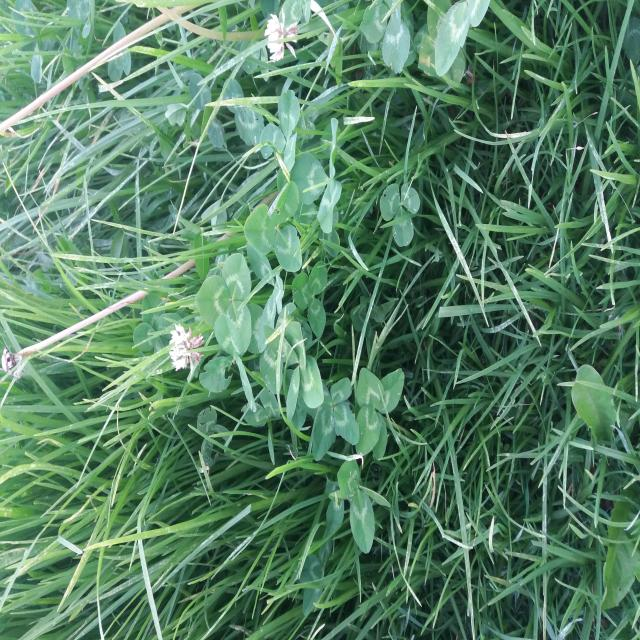Four Leaf Clover: (264, 321, 314, 421), (359, 366, 404, 462), (132, 292, 184, 367), (318, 376, 356, 461)
